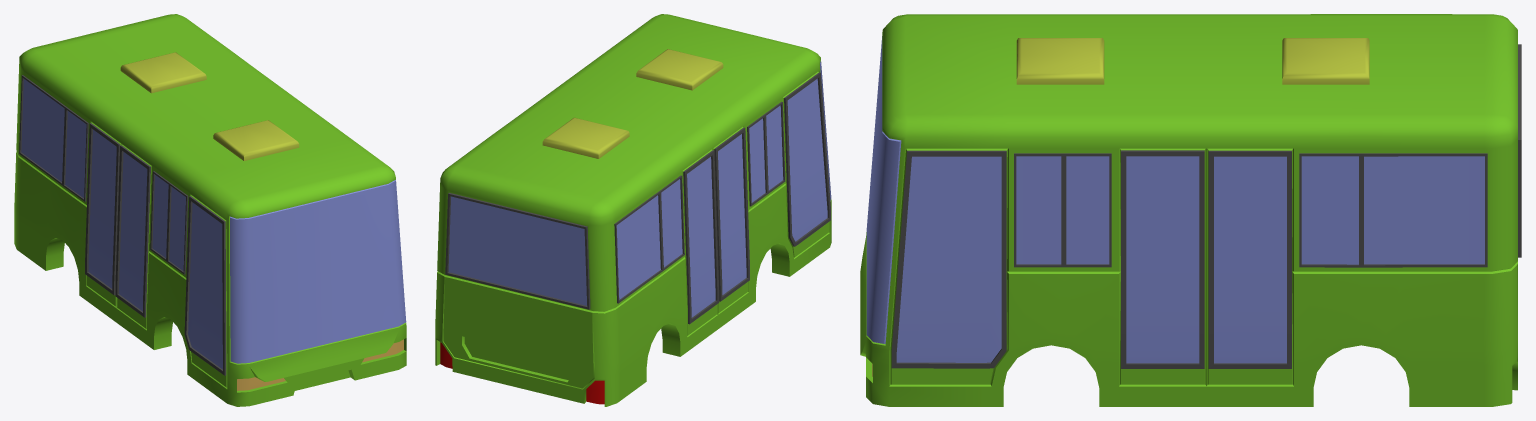
Rendered from Metrolinea.fbx.
The picture shows the model from 3 angles, left to right: view 1: azimuth 30°, elevation 25°; view 2: azimuth 150°, elevation 25°; view 3: azimuth 270°, elevation 25°; orthographic projection. The views are drawn at different scales.
Parts seen in each view (by area): view 1: Metrolinea Bus; view 2: Metrolinea Bus; view 3: Metrolinea Bus.
Boxes of the visible parts, x1,y1,x2,y2 form: Metrolinea Bus: [14, 14, 406, 406]; Metrolinea Bus: [435, 14, 831, 406]; Metrolinea Bus: [860, 14, 1521, 406].
Size of the model in its own units: 216 by 230 by 477.
